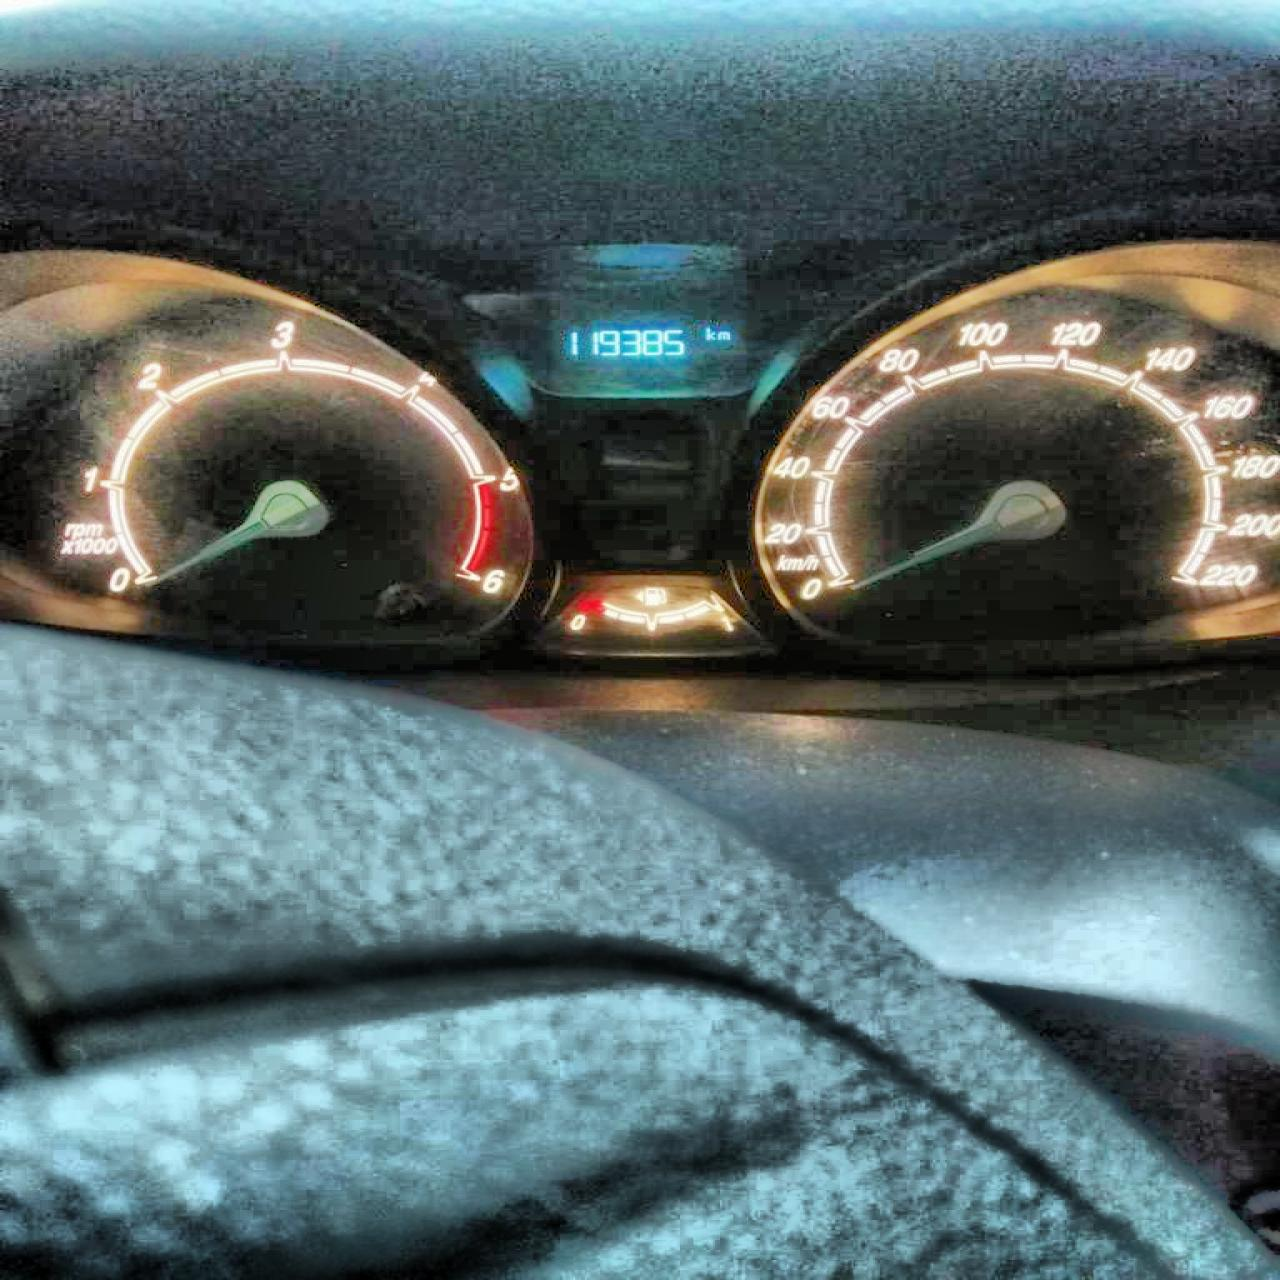1: (567, 328, 578, 356), (586, 329, 597, 355)
3: (620, 327, 640, 355)
5: (662, 327, 683, 355)
8: (640, 327, 660, 356)
9: (597, 328, 618, 356)
X: (703, 325, 715, 340), (715, 331, 730, 340)
odometer: (456, 290, 802, 400)
